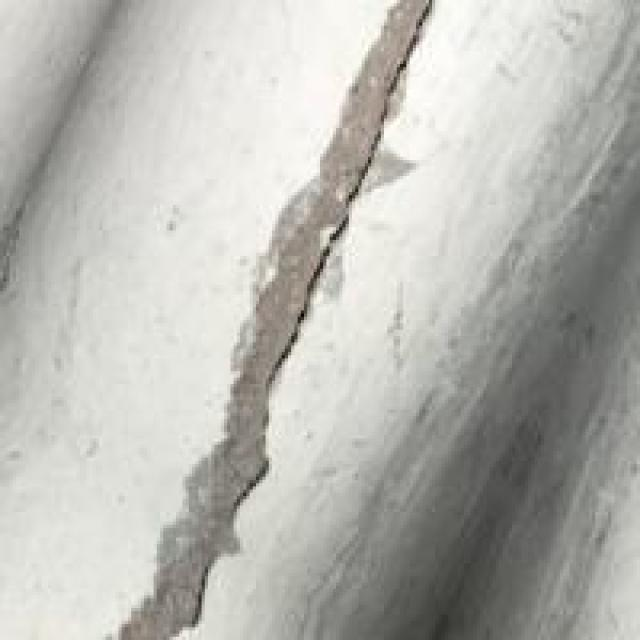crack: (128, 3, 435, 637)
